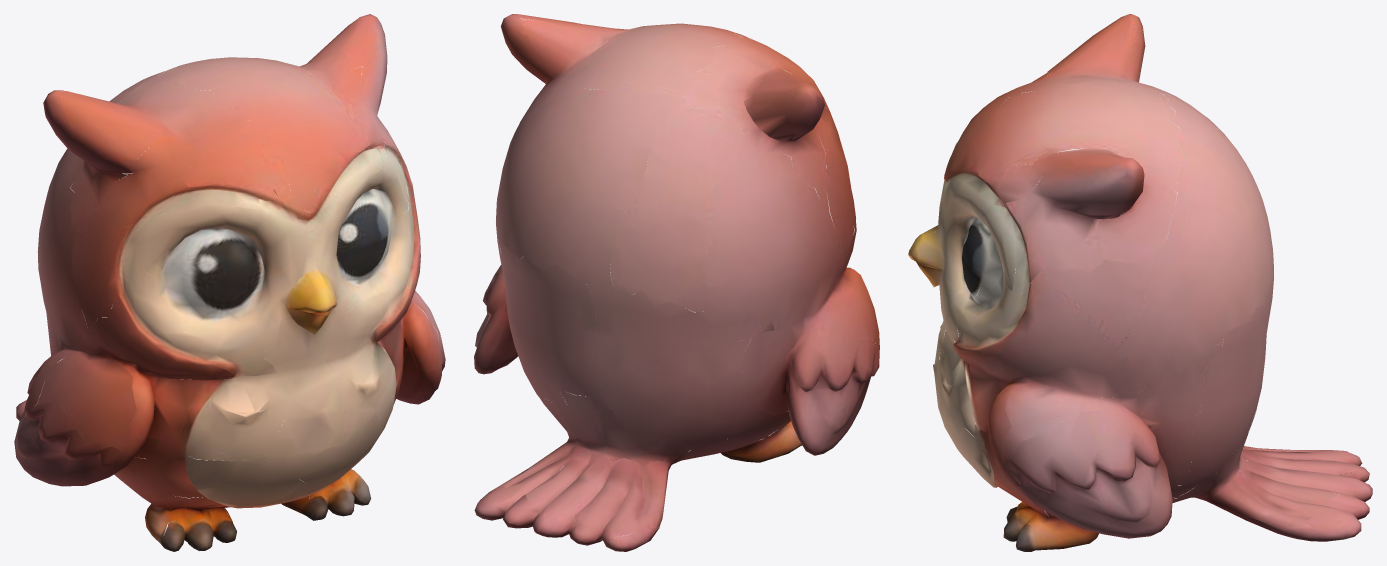
File: mob_owl.glb
3 views of the same model, side by side, from view 1: azimuth 30°, elevation 25°; view 2: azimuth 150°, elevation 25°; view 3: azimuth 270°, elevation 25° (orthographic). The views are drawn at different scales.
Parts seen in each view (by area): view 1: tripo_node_2e9d826d-ebe5-4583-b31e-4b780bd1f954; view 2: tripo_node_2e9d826d-ebe5-4583-b31e-4b780bd1f954; view 3: tripo_node_2e9d826d-ebe5-4583-b31e-4b780bd1f954.
Boxes of the visible parts, left/top/right/bottom form: tripo_node_2e9d826d-ebe5-4583-b31e-4b780bd1f954: left=14, top=14, right=445, bottom=551; tripo_node_2e9d826d-ebe5-4583-b31e-4b780bd1f954: left=474, top=14, right=879, bottom=551; tripo_node_2e9d826d-ebe5-4583-b31e-4b780bd1f954: left=908, top=14, right=1372, bottom=551.
Bounding box in the file's own units: 0.9406 × 0.9931 × 1.
1 material, 1 textured.
